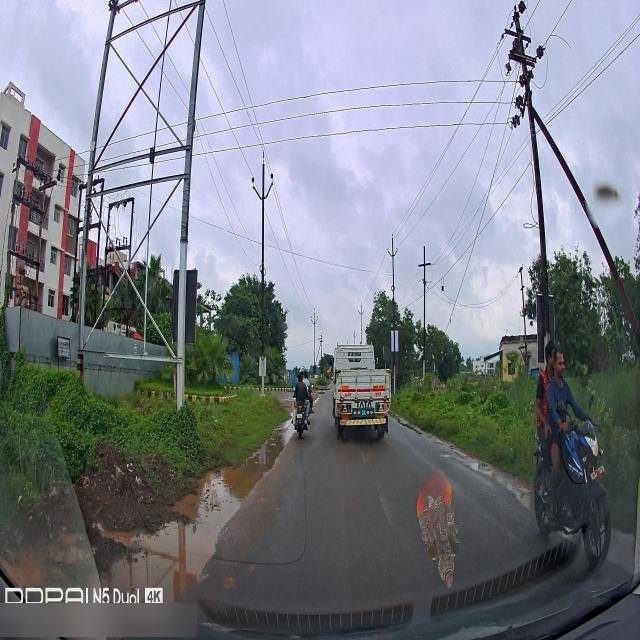pothole: (156, 504, 225, 563), (187, 472, 259, 508), (244, 438, 286, 468), (466, 457, 484, 468)
